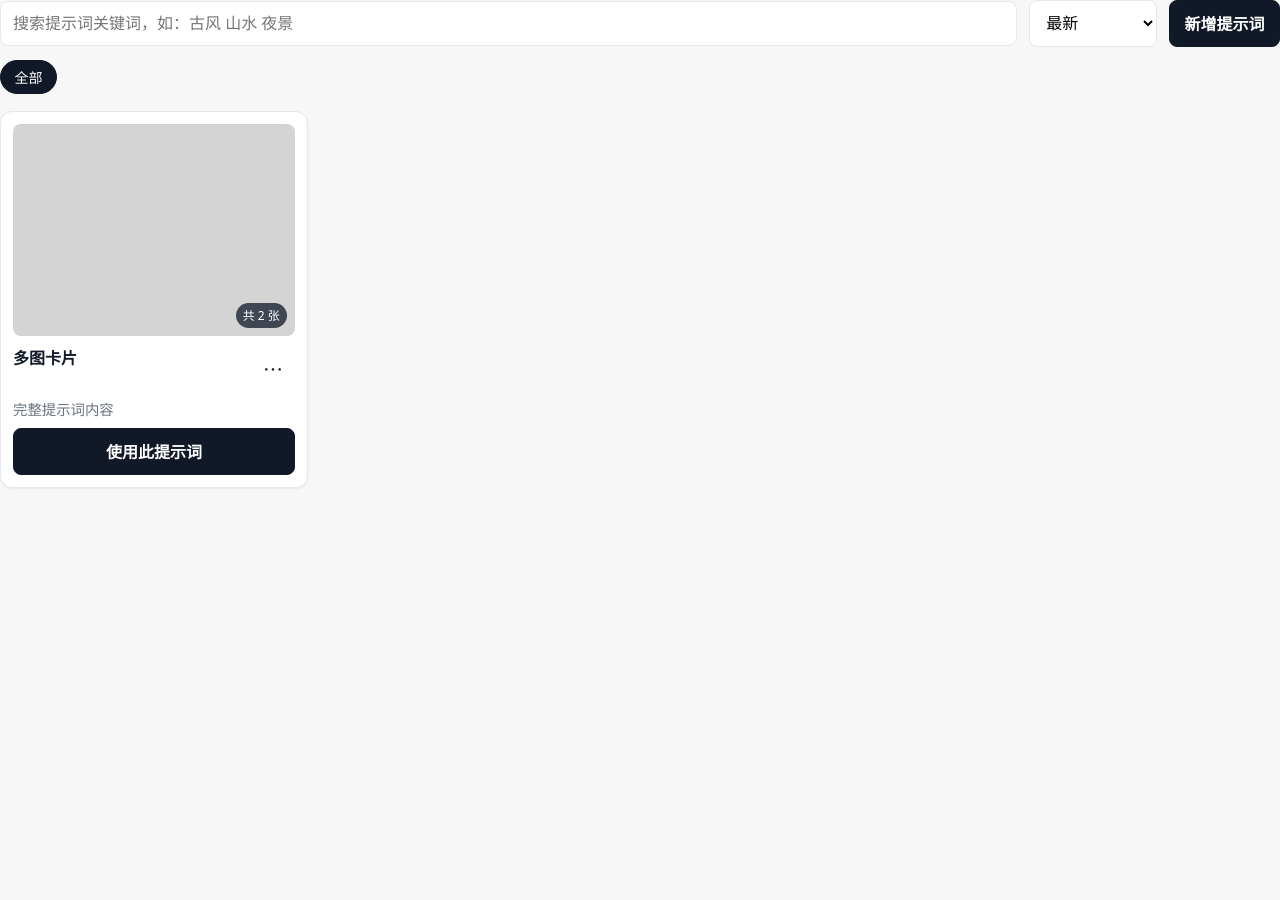
Test: 全屏预览可切换下一张
The image size is (1280, 900).
Click the button named "预览 多图卡片" at (154, 230), box [13,124,295,336]
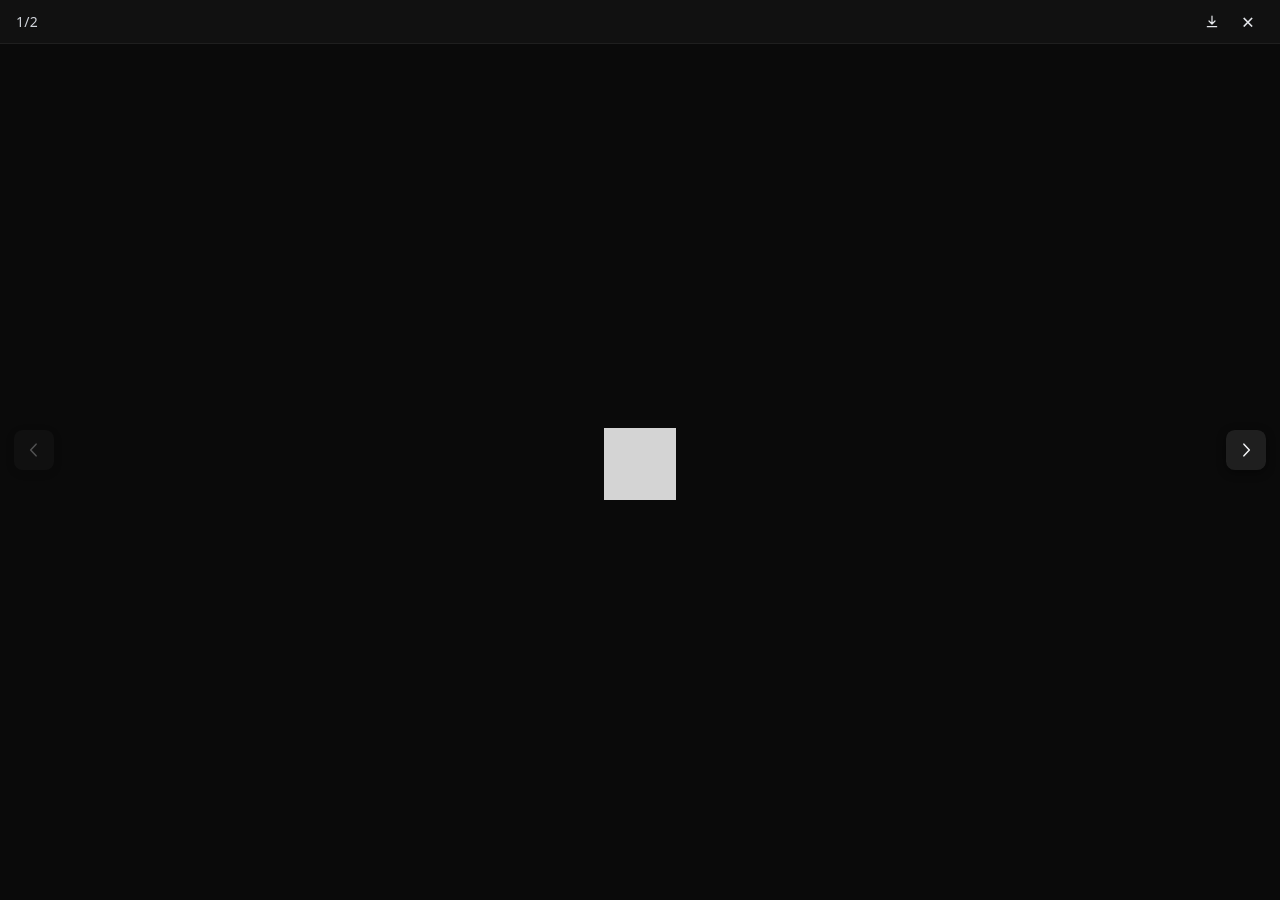
Click the button named "下一张" at (1246, 450), box [1226,430,1266,470]
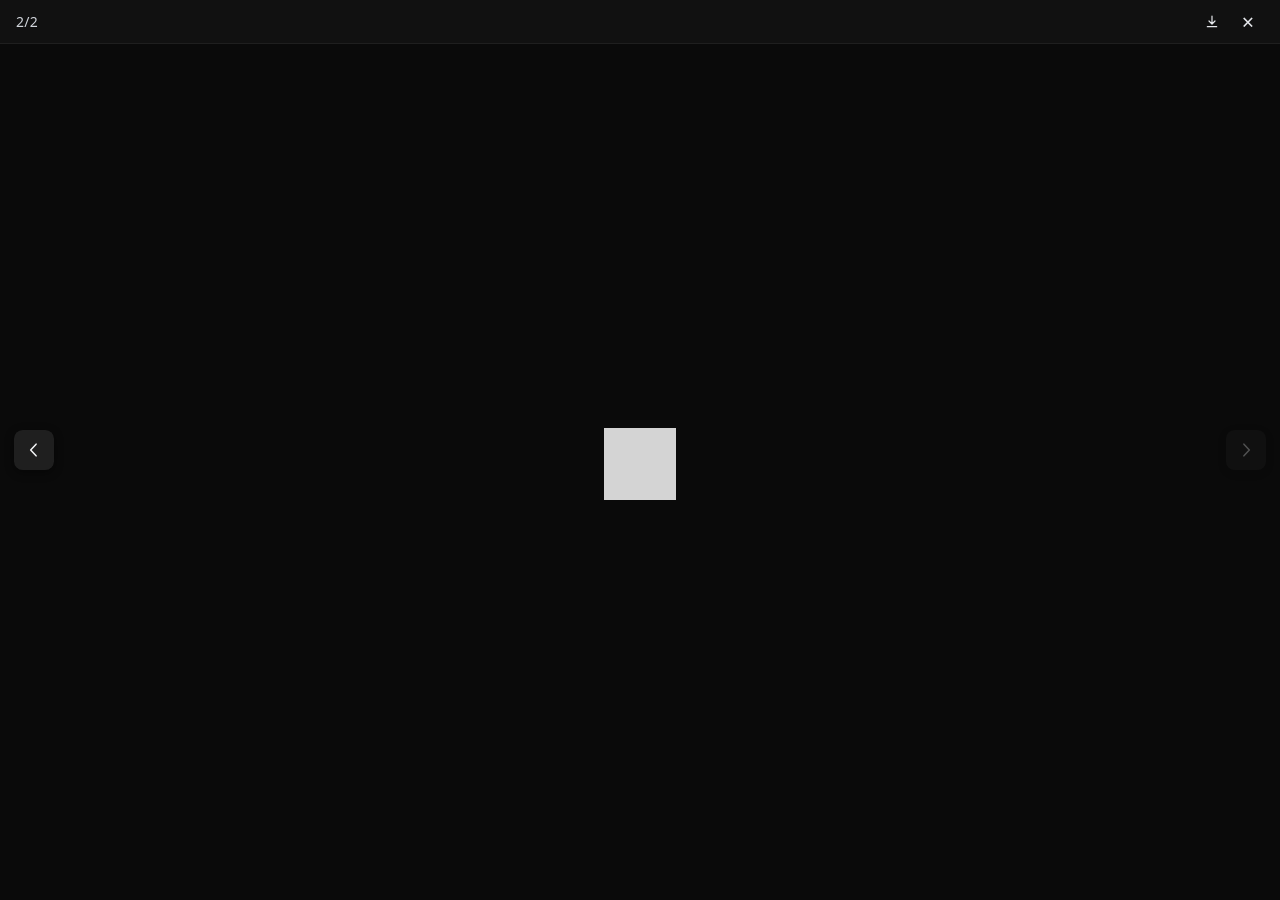
Expected: the text "2/2" is shown, [16,12,38,31]
